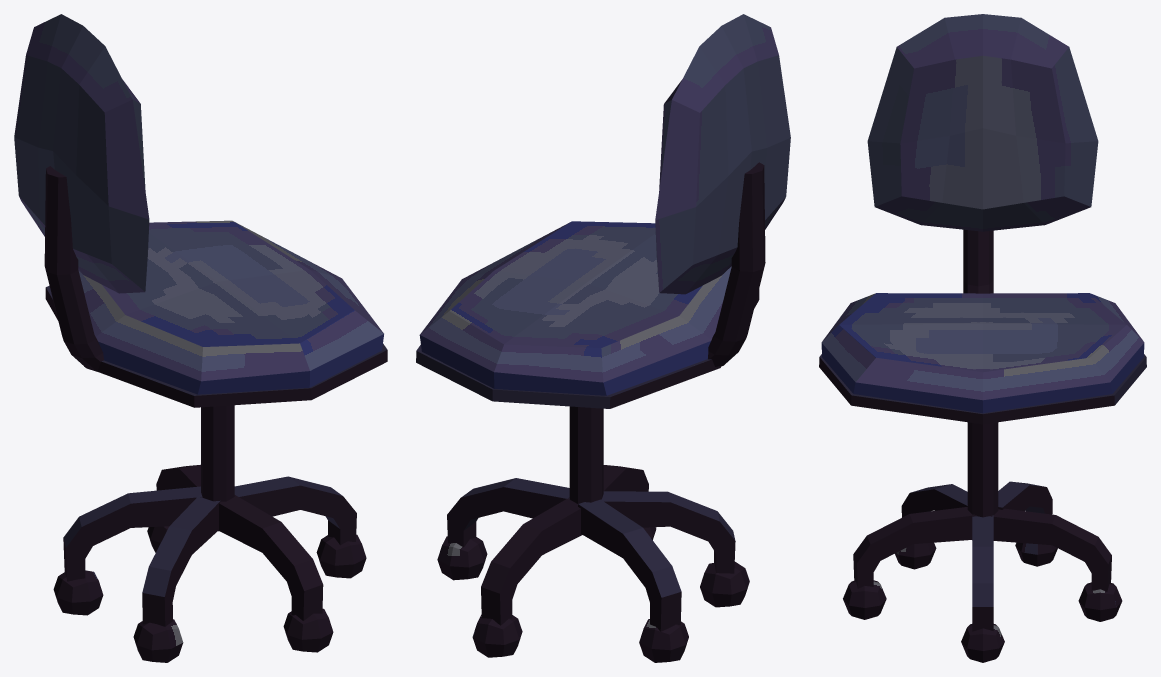
File: office_chair.fbx
3 renders of one model, left to right at view 1: azimuth 30°, elevation 25°; view 2: azimuth 150°, elevation 25°; view 3: azimuth 270°, elevation 25°, orthographic. The views are drawn at different scales.
Parts seen in each view (by area): view 1: Cylinder.001; view 2: Cylinder.001; view 3: Cylinder.001.
Part boxes in pixels (bbox=[...]): Cylinder.001: bbox=[14, 14, 387, 662]; Cylinder.001: bbox=[416, 14, 790, 662]; Cylinder.001: bbox=[819, 14, 1146, 662].
Bounding box in the file's own units: 602 × 1106 × 612.
Materials: 1 (1 with a texture image).
